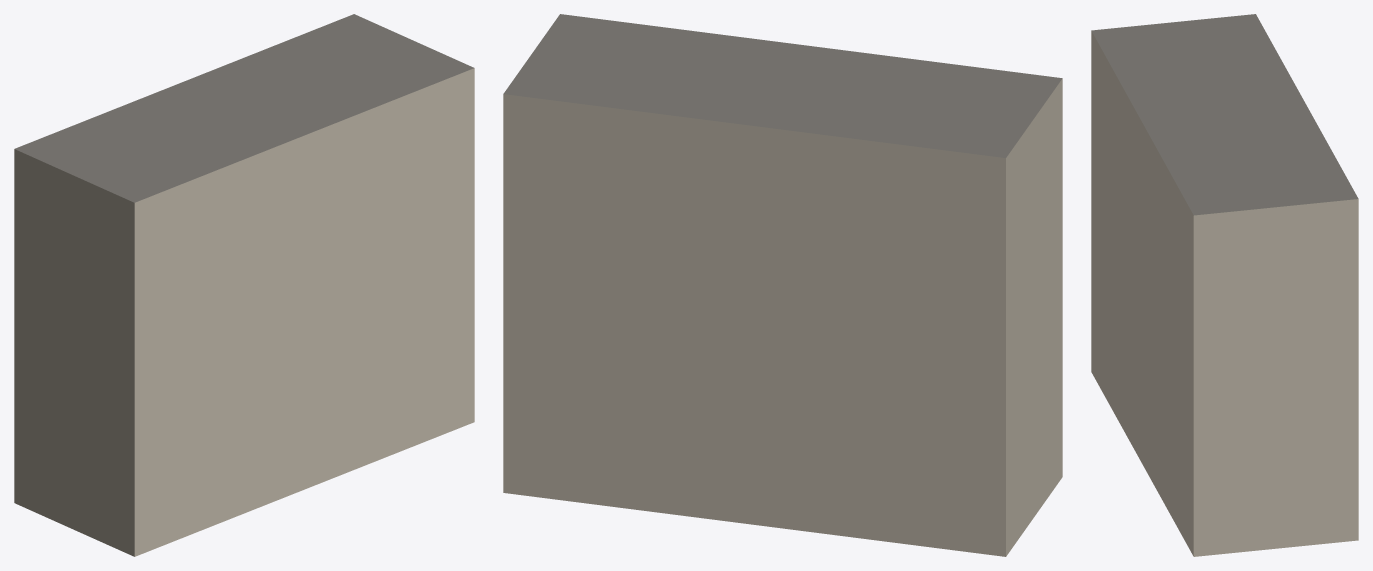
3 renders of one model, left to right at view 1: azimuth 30°, elevation 25°; view 2: azimuth 150°, elevation 25°; view 3: azimuth 270°, elevation 25°, orthographic. The views are drawn at different scales.
Visible parts, largest first — view 1: HP-w1200750007; view 2: HP-w1200750007; view 3: HP-w1200750007.
Part boxes in pixels (bbox=[...]): HP-w1200750007: bbox=[14, 14, 474, 556]; HP-w1200750007: bbox=[503, 14, 1062, 556]; HP-w1200750007: bbox=[1091, 14, 1358, 556].
Bounding box in the file's own units: 18.98 × 15 × 10.64.
